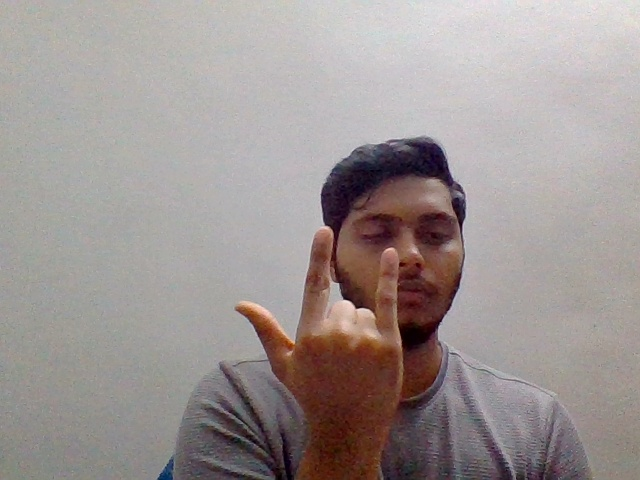I Love You: (230, 220, 414, 449)
